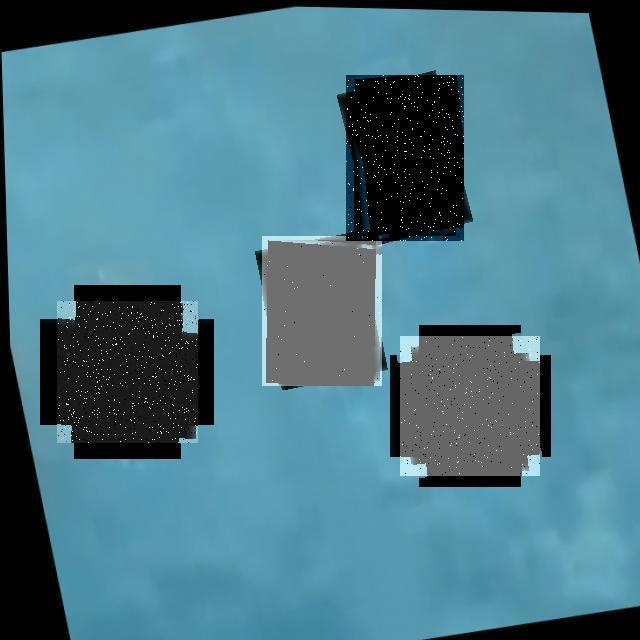swimming: (57, 301, 198, 443), (400, 336, 540, 476), (346, 75, 464, 241), (262, 236, 382, 386)
